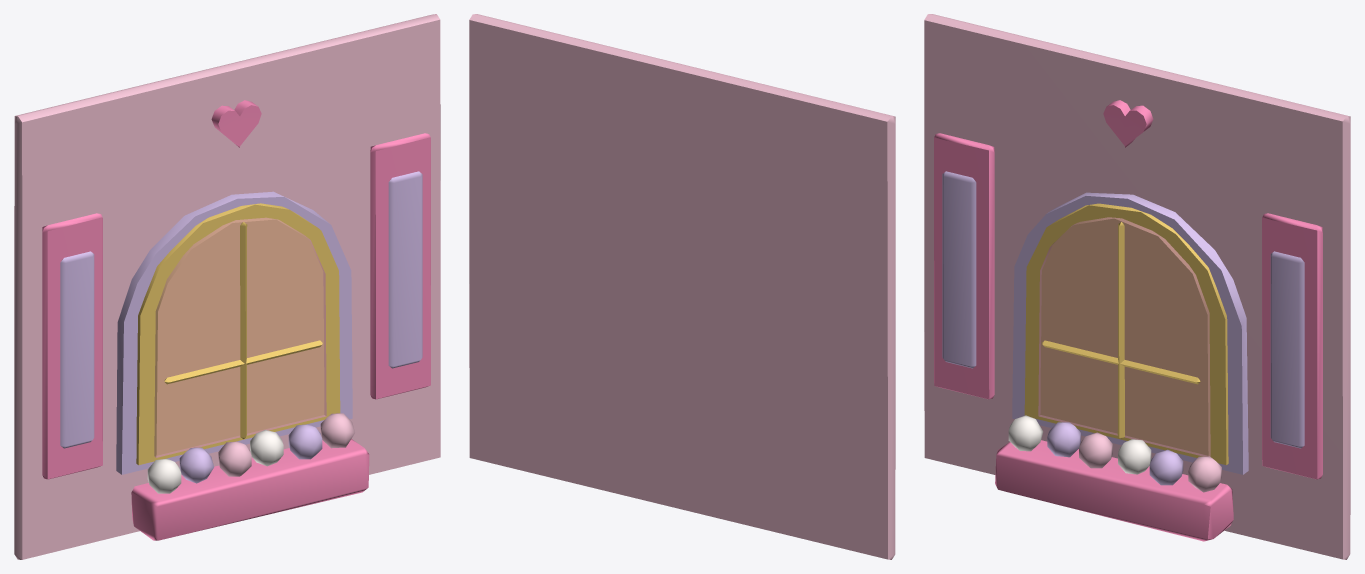
Rendered from facade_win.glb.
3 renders of one model, left to right at view 1: azimuth 30°, elevation 25°; view 2: azimuth 150°, elevation 25°; view 3: azimuth 330°, elevation 25°, orthographic.
Parts seen in each view (by area): view 1: facade_win; view 2: facade_win; view 3: facade_win.
Boxes of the visible parts, <box> form: facade_win: <box>14,14,440,559</box>; facade_win: <box>469,14,895,559</box>; facade_win: <box>924,14,1350,559</box>.
Size of the model in its own units: 3.5 by 3.49 by 0.5644.
